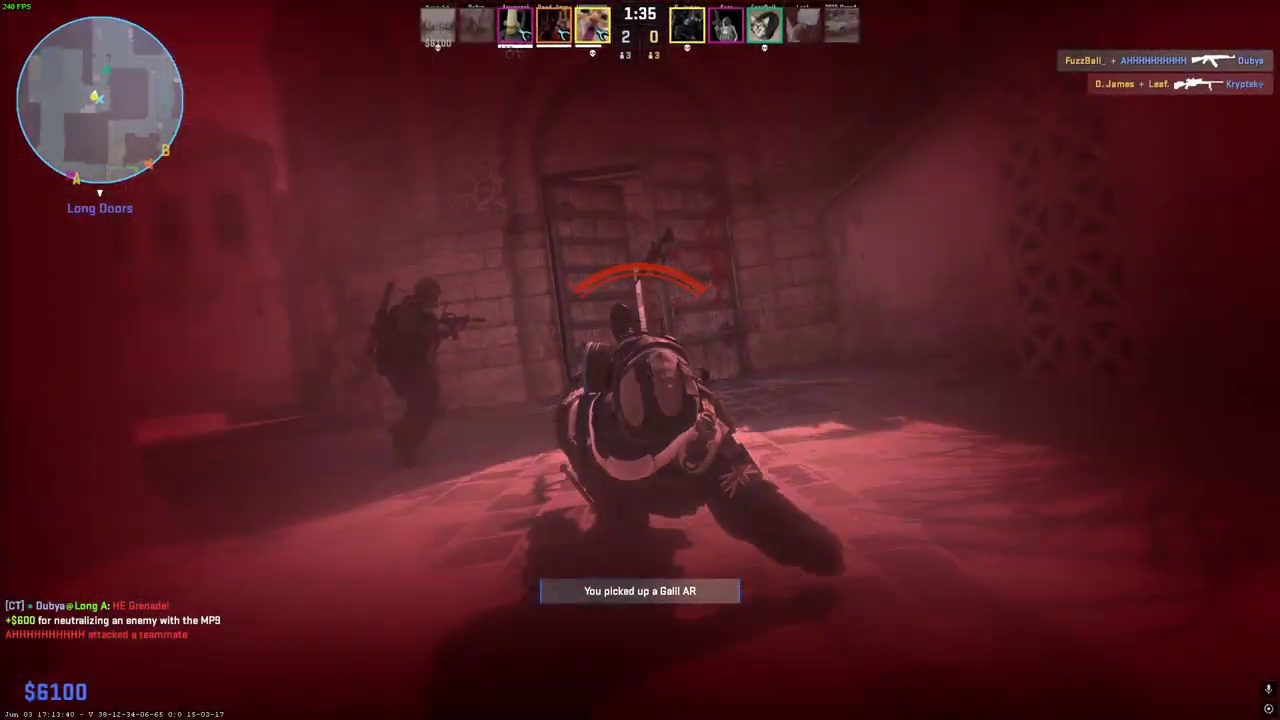CT: (376, 276, 458, 470)
